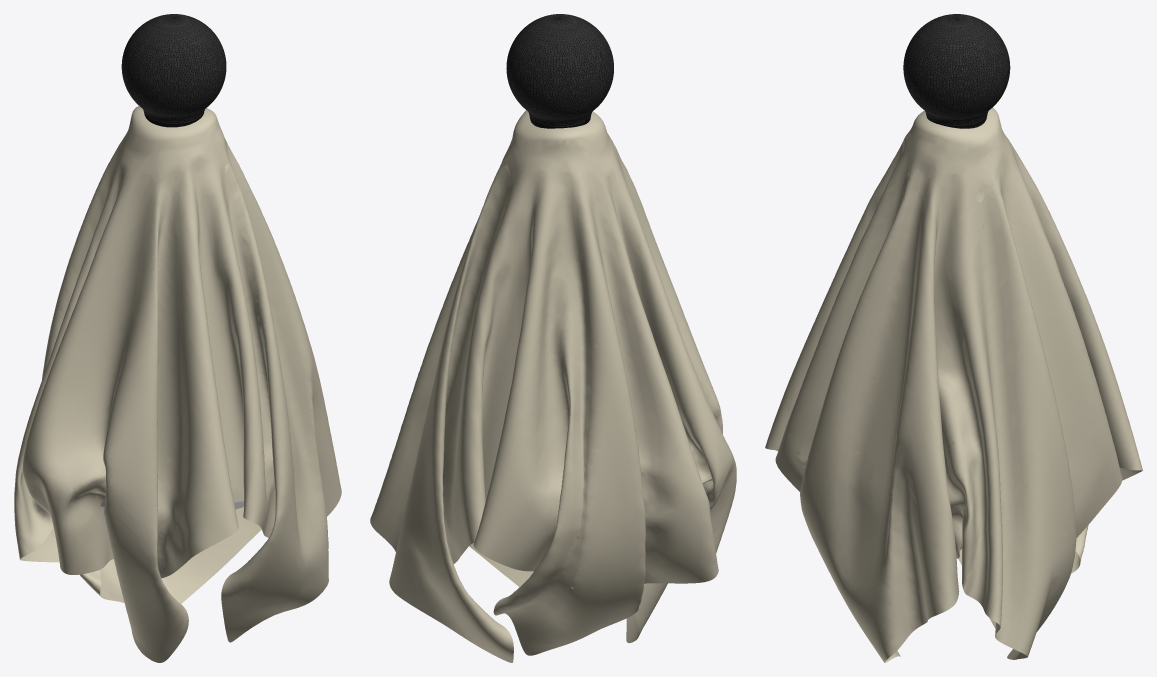
Rendered from KuchisakeOnna.fbx.
3 renders of one model, left to right at view 1: azimuth 30°, elevation 25°; view 2: azimuth 150°, elevation 25°; view 3: azimuth 270°, elevation 25°, orthographic. The views are drawn at different scales.
Parts seen in each view (by area): view 1: Plane, Sphere; view 2: Plane, Sphere; view 3: Plane, Sphere.
Part boxes in pixels (<box>): Plane: <box>14,106,341,662</box>; Sphere: <box>121,14,226,127</box>; Plane: <box>370,110,736,662</box>; Sphere: <box>506,14,613,128</box>; Plane: <box>765,107,1142,662</box>; Sphere: <box>903,14,1010,128</box>.
Size of the model in its own units: 291 by 536 by 293.
Materials: 2 (1 with a texture image).
